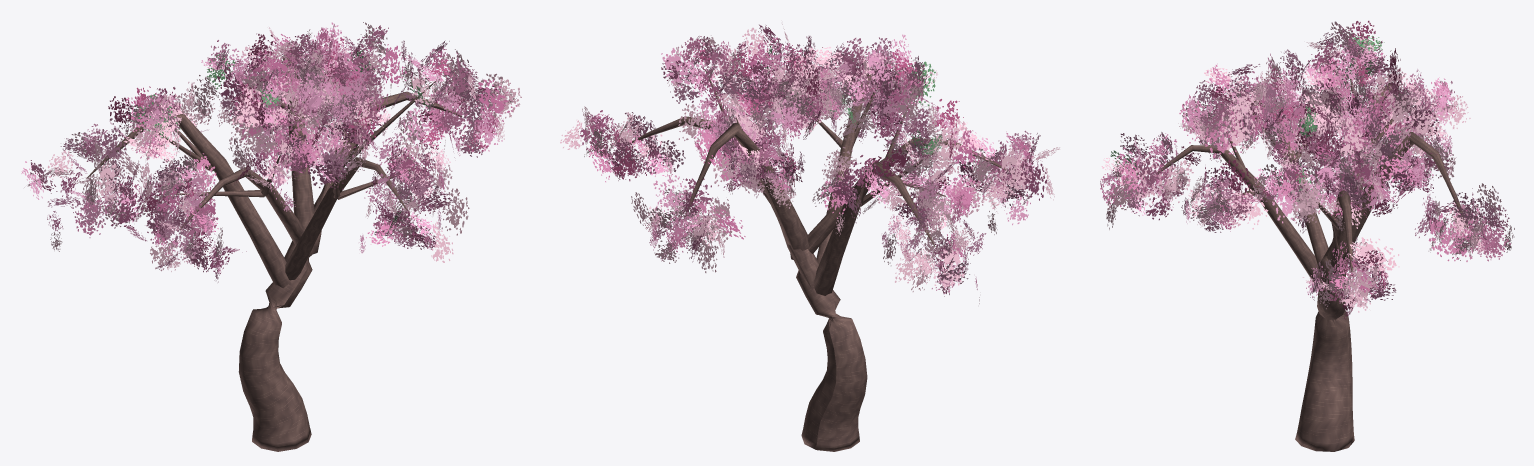
Rendered from Tree_Cherry_03_TwistedTwin_LOD1.glb.
3 renders of one model, left to right at view 1: azimuth 30°, elevation 25°; view 2: azimuth 150°, elevation 25°; view 3: azimuth 270°, elevation 25°, orthographic. The views are drawn at different scales.
Visible parts, largest first — view 1: Tree_Cherry_03_TwistedTwin_LOD1; view 2: Tree_Cherry_03_TwistedTwin_LOD1; view 3: Tree_Cherry_03_TwistedTwin_LOD1.
Part boxes in pixels (bbox=[...]): Tree_Cherry_03_TwistedTwin_LOD1: bbox=[21, 22, 521, 451]; Tree_Cherry_03_TwistedTwin_LOD1: bbox=[560, 24, 1059, 451]; Tree_Cherry_03_TwistedTwin_LOD1: bbox=[1100, 20, 1514, 451].
Size of the model in its own units: 8.61 by 7.09 by 6.97.
Materials: 2 (2 with a texture image).
